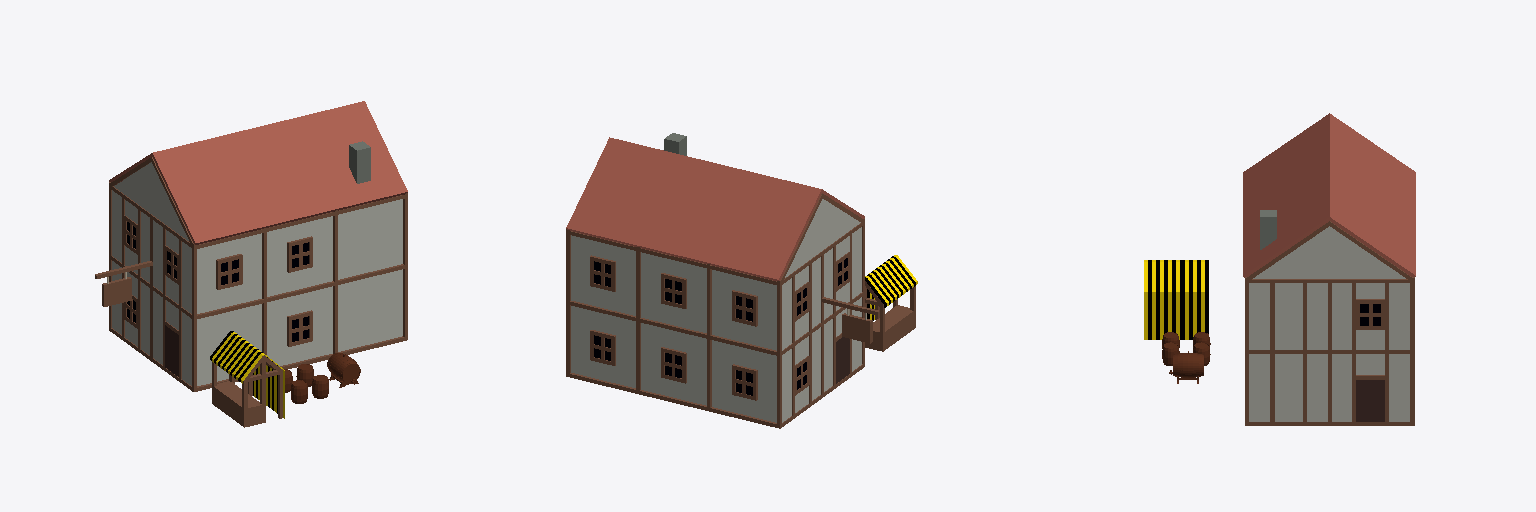
The model's file is timberframedvintner_black_yellow.obj.
3 renders of one model, left to right at view 1: azimuth 30°, elevation 25°; view 2: azimuth 150°, elevation 25°; view 3: azimuth 270°, elevation 25°, orthographic.
Visible parts, largest first — view 1: Cube.005, Cube.007_Cube.011, Cube.011_Cube.015, Cube.018_Cube.016, Cube.056_Cube.081, barrel_Untitled, Cube.001_Cube.058, Cube.013_Cube.080, Cube.006_Cube.010, Cube.026_Cube.019, Cube.073_Cube.078, Cube.012_Cube.017 (+6 smaller); view 2: Cube.005, Cube.007_Cube.011, Cube.023_Cube.026, Cube.022_Cube.025, Cube.021_Cube.024, Cube.015_Cube.020, Cube.019_Cube.022, Cube.017_Cube.021, Cube.014_Cube.018, Cube.008, Cube.020_Cube.023, Cube.073_Cube.078 (+6 smaller); view 3: Cube.005, Cube.007_Cube.011, Cube.147_Cube.153, Cube.003, Cube.033, barrel_Untitled, Cube.027, Cube.047_Cube.049, Cube.031, Cube.006_Cube.010, Cube.016_Cube.013, Cube.012_Cube.017 (+5 smaller).
Part boxes in pixels (x1,y1,x2,y2): Cube.005: (112, 162, 402, 385); Cube.007_Cube.011: (109, 101, 407, 244); Cube.011_Cube.015: (195, 264, 406, 319); Cube.018_Cube.016: (195, 195, 406, 249); Cube.056_Cube.081: (216, 254, 242, 289); barrel_Untitled: (327, 353, 360, 387); Cube.001_Cube.058: (287, 310, 312, 346); Cube.013_Cube.080: (287, 236, 312, 272); Cube.006_Cube.010: (349, 141, 370, 183); Cube.026_Cube.019: (192, 243, 196, 391); Cube.073_Cube.078: (102, 277, 131, 306); Cube.012_Cube.017: (403, 193, 407, 339); Cube.005: (571, 199, 861, 422); Cube.007_Cube.011: (566, 137, 864, 280); Cube.023_Cube.026: (567, 373, 776, 427); Cube.022_Cube.025: (567, 301, 777, 355); Cube.021_Cube.024: (570, 231, 776, 284); Cube.015_Cube.020: (732, 290, 757, 326); Cube.019_Cube.022: (661, 347, 686, 383); Cube.017_Cube.021: (590, 330, 615, 365); Cube.014_Cube.018: (661, 273, 686, 308); Cube.008: (590, 255, 615, 291); Cube.020_Cube.023: (732, 364, 757, 400); Cube.073_Cube.078: (842, 313, 872, 343); Cube.005: (1249, 226, 1409, 421); Cube.007_Cube.011: (1243, 113, 1415, 277); Cube.147_Cube.153: (1144, 292, 1208, 339); Cube.003: (1356, 380, 1384, 421); Cube.033: (1356, 299, 1384, 329); barrel_Untitled: (1169, 351, 1203, 383); Cube.027: (1410, 277, 1414, 425); Cube.047_Cube.049: (1270, 279, 1274, 423); Cube.031: (1249, 422, 1410, 425); Cube.006_Cube.010: (1260, 210, 1276, 249); Cube.016_Cube.013: (1248, 350, 1409, 353); Cube.012_Cube.017: (1245, 277, 1248, 425).
Size of the model in its own units: 15.3 by 11.25 by 13.34.